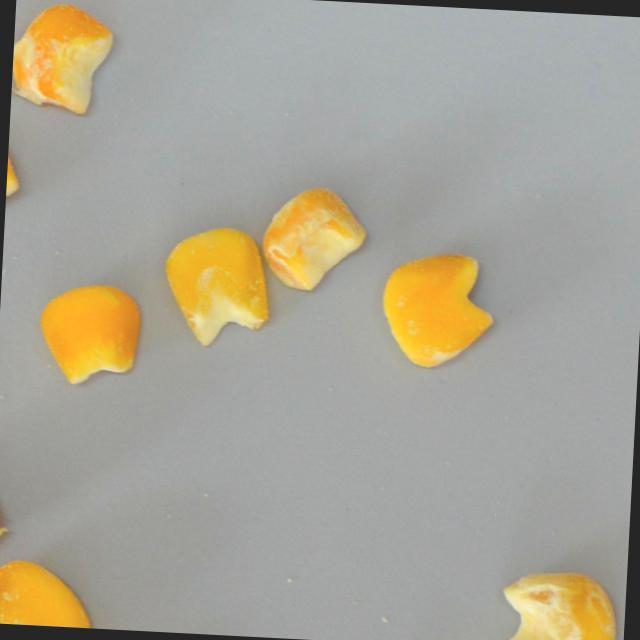dañado: (372, 241, 501, 375), (10, 0, 117, 120), (477, 565, 626, 640), (0, 553, 102, 629), (0, 473, 14, 555)
pelicula: (157, 218, 278, 351), (257, 177, 372, 298), (34, 278, 147, 391), (4, 129, 26, 238)
